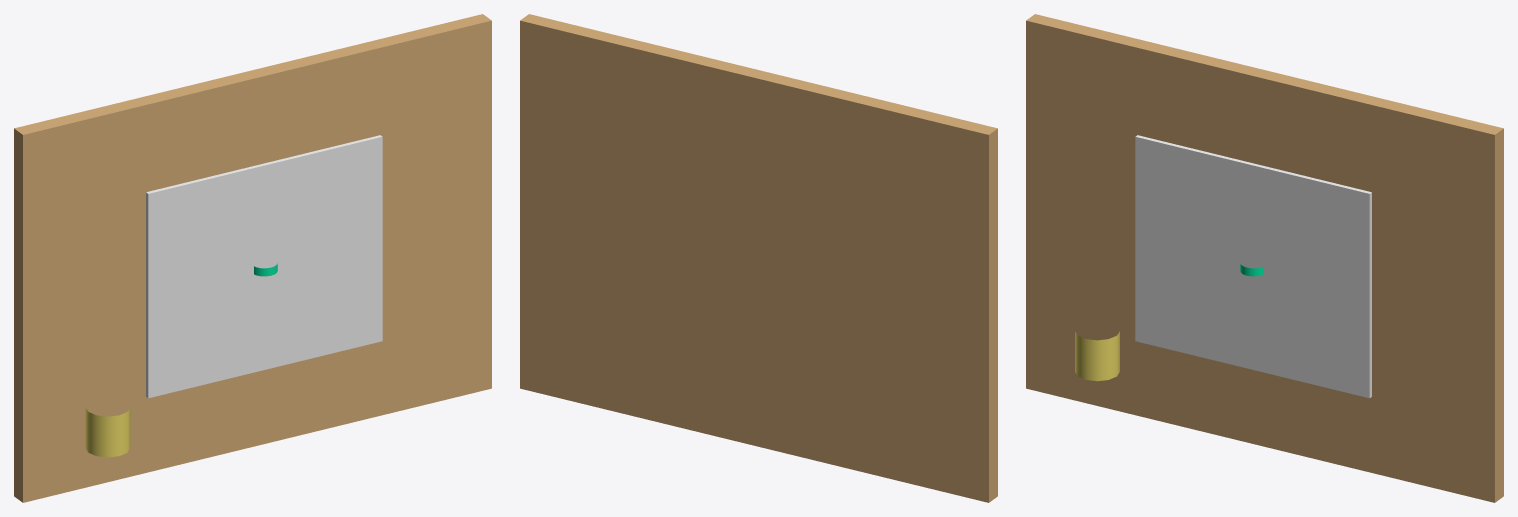
The model's file is lamis_theorem_coplanar_forces.glb.
3 renders of one model, left to right at view 1: azimuth 30°, elevation 25°; view 2: azimuth 150°, elevation 25°; view 3: azimuth 330°, elevation 25°, orthographic.
Parts seen in each view (by area): view 1: VerticalDrawingBoardApparatus, ForceVectorsPolygonGraphSheet, SuspendedWeightPansAndPulleys; view 2: VerticalDrawingBoardApparatus; view 3: VerticalDrawingBoardApparatus, ForceVectorsPolygonGraphSheet, SuspendedWeightPansAndPulleys.
Part boxes in pixels (x1,y1,x2,y2): VerticalDrawingBoardApparatus: (14, 14, 491, 502); ForceVectorsPolygonGraphSheet: (146, 135, 382, 398); SuspendedWeightPansAndPulleys: (85, 407, 130, 457); VerticalDrawingBoardApparatus: (520, 14, 997, 502); VerticalDrawingBoardApparatus: (1026, 14, 1503, 502); ForceVectorsPolygonGraphSheet: (1135, 135, 1371, 398); SuspendedWeightPansAndPulleys: (1075, 331, 1119, 381).
Size of the model in its own units: 1.2 by 0.9 by 0.12.
